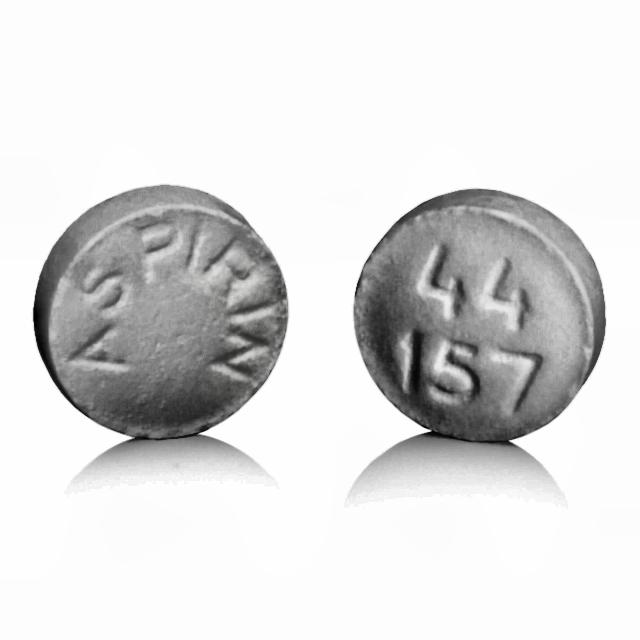Aspirin: (48, 165, 600, 451)
